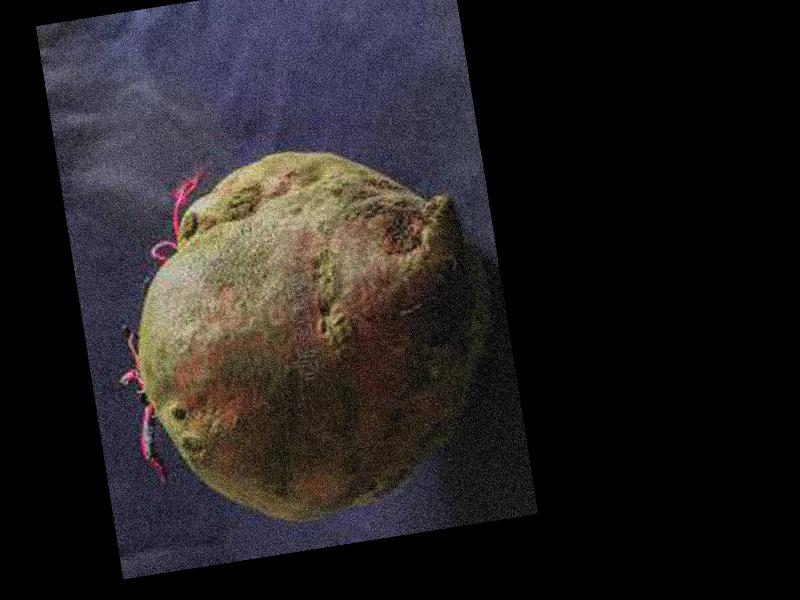Beet: (92, 124, 516, 543)
